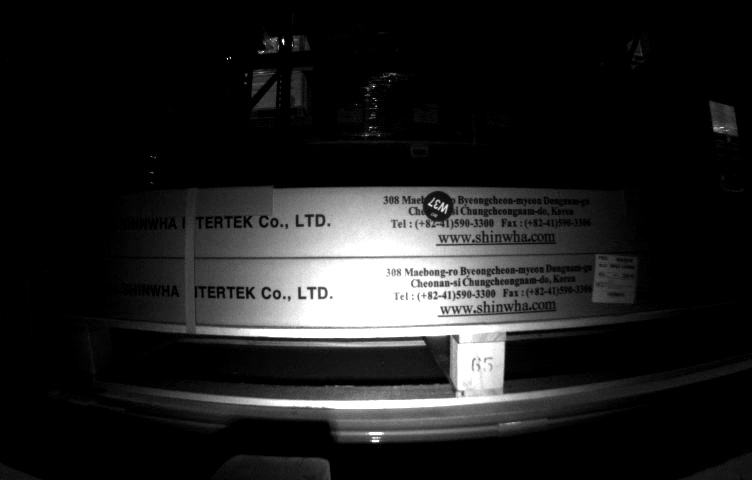True Barcode: (587, 253, 636, 306)
